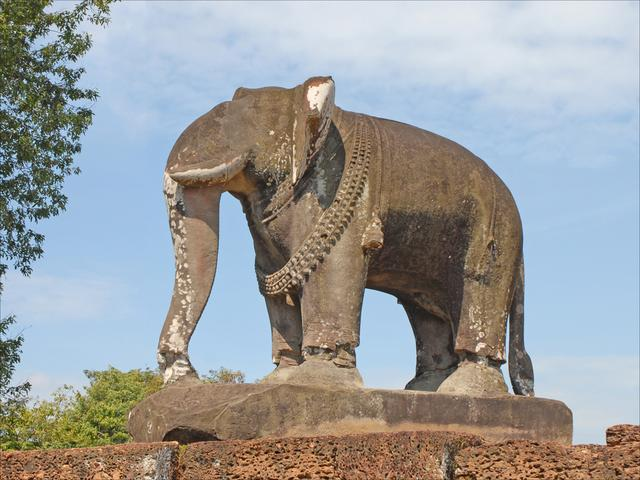elephant: (122, 60, 571, 441)
